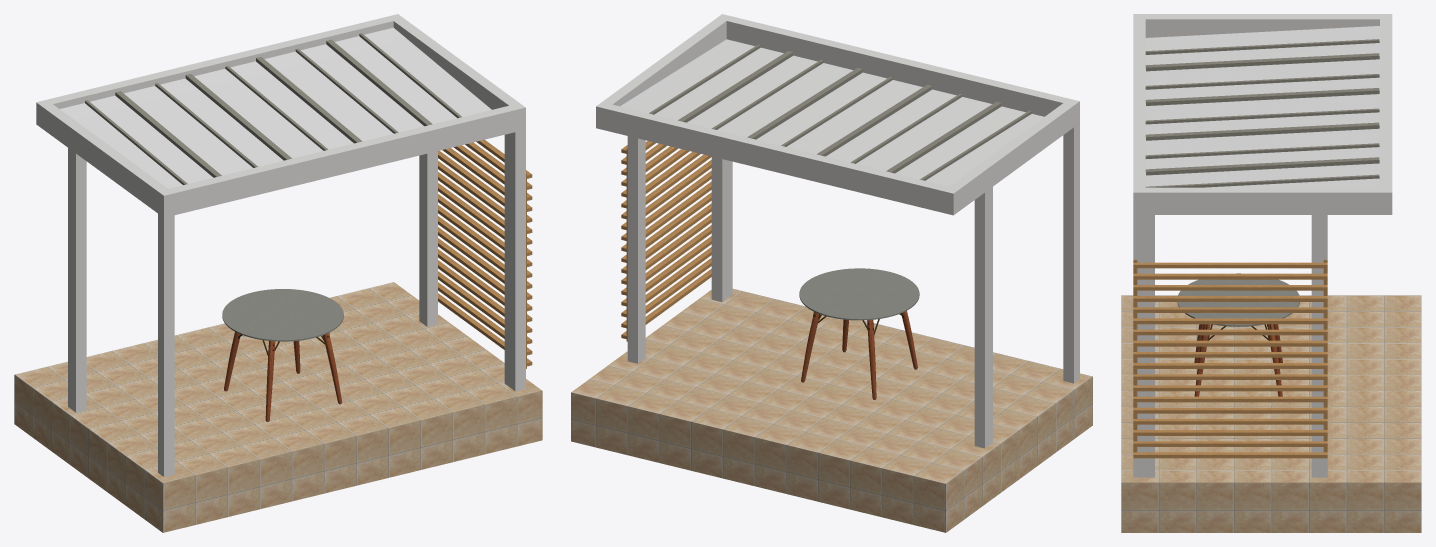
Rendered from hyg27-g_matwhite.fbx.
The picture shows the model from 3 angles, left to right: view 1: azimuth 30°, elevation 25°; view 2: azimuth 150°, elevation 25°; view 3: azimuth 270°, elevation 25°; orthographic projection. The views are drawn at different scales.
Parts seen in each view (by area): view 1: hyg27-g_matwhiteファニチャーなし.001; view 2: hyg27-g_matwhiteファニチャーなし.001; view 3: hyg27-g_matwhiteファニチャーなし.001.
Part boxes in pixels (box(x1,y1,x2,y2)): hyg27-g_matwhiteファニチャーなし.001: box(14, 14, 542, 532); hyg27-g_matwhiteファニチャーなし.001: box(571, 14, 1092, 532); hyg27-g_matwhiteファニチャーなし.001: box(1121, 14, 1421, 532).
Bounding box in the file's own units: 360 × 300 × 244.
12 materials, 10 textured.
